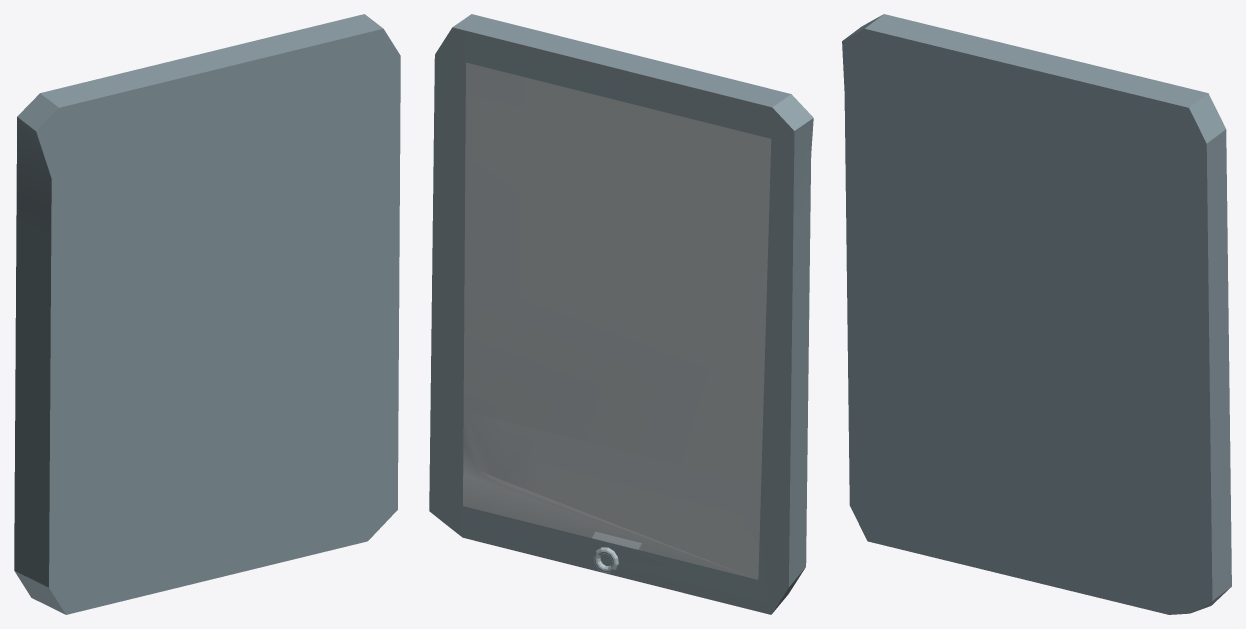
Rendered from Tablet.fbx.
3 views of the same model, side by side, from view 1: azimuth 30°, elevation 25°; view 2: azimuth 150°, elevation 25°; view 3: azimuth 330°, elevation 25° (orthographic).
Visible parts, largest first — view 1: group_2111228823; view 2: group_2111228823; view 3: group_2111228823.
Part boxes in pixels (x1,y1,x2,y2): group_2111228823: (14,14,400,614); group_2111228823: (429,14,813,614); group_2111228823: (842,14,1231,614).
Size of the model in its own units: 40.89 by 54.41 by 6.31.
